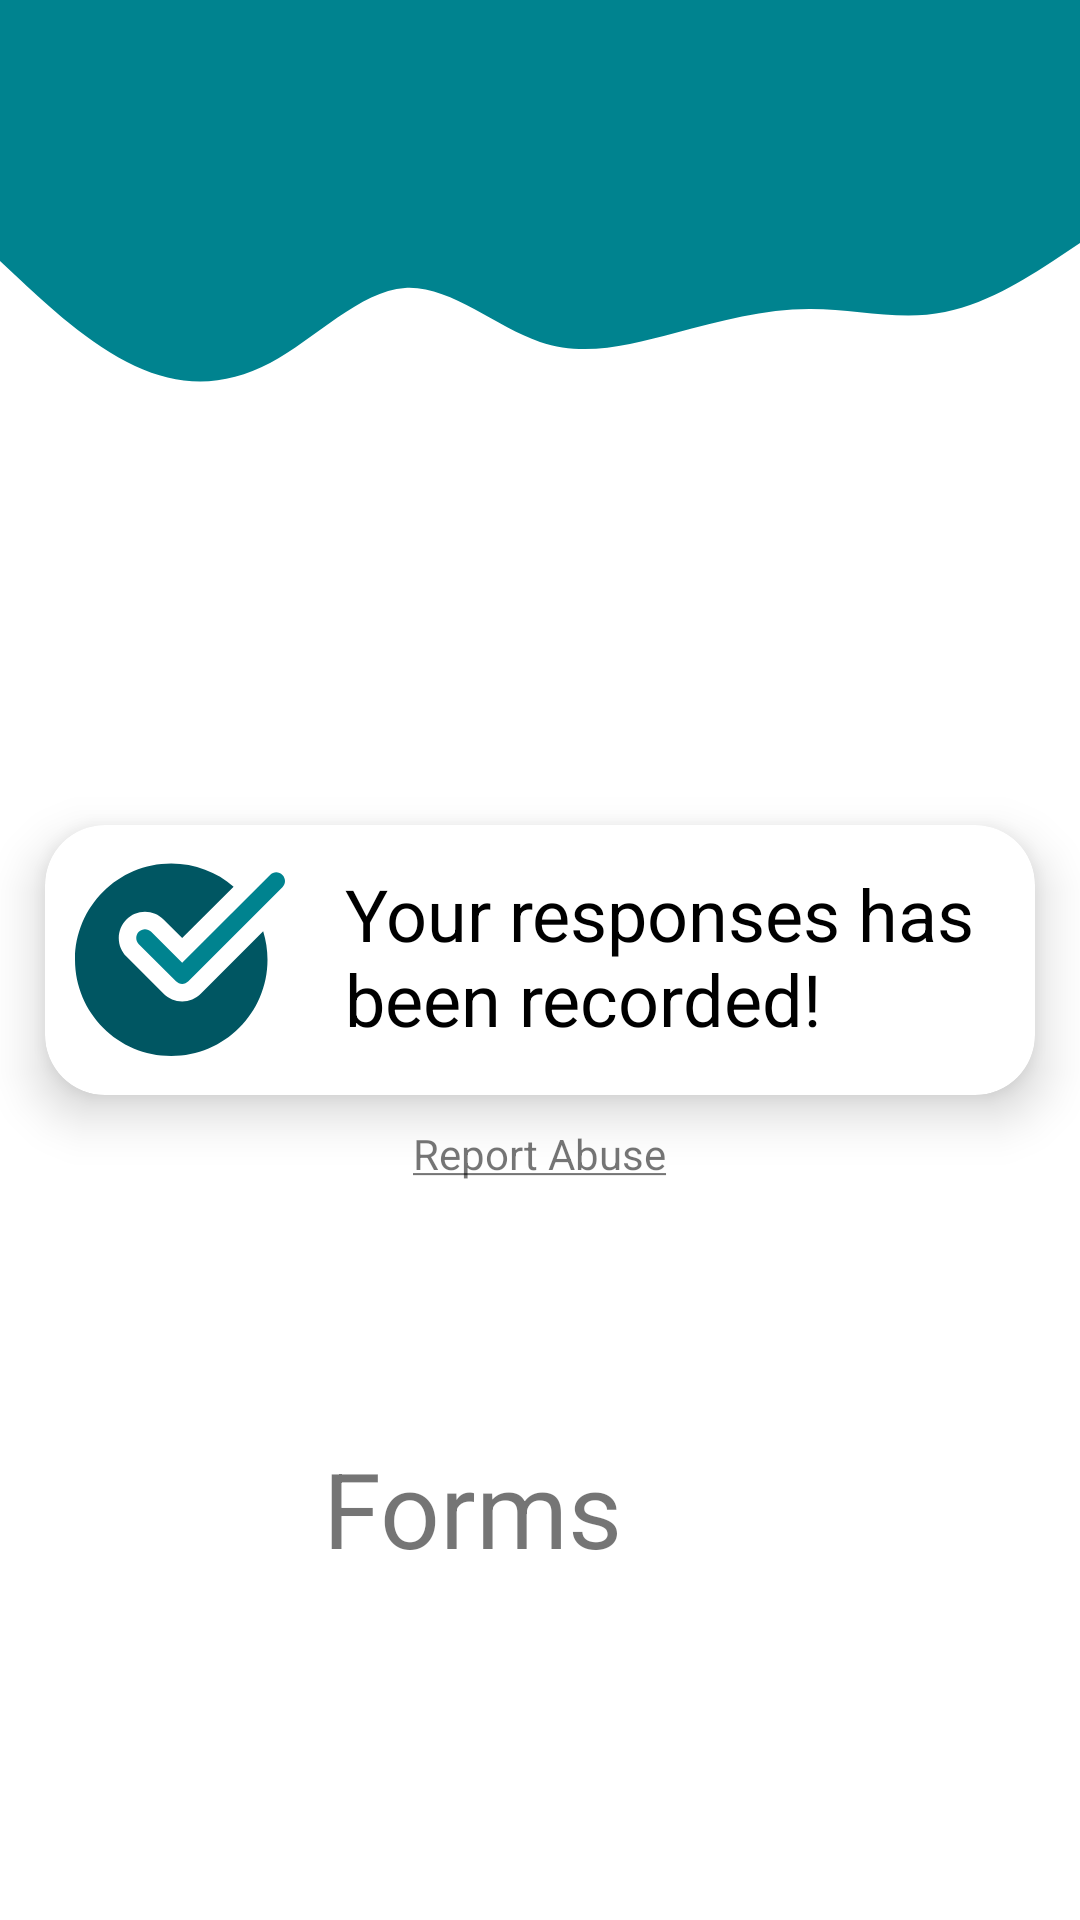

Screen size 1080w x 1920h. Icon name, then its box in pixels as box(x1, y1, x2, y2):
checkmark: box(75, 863, 285, 1056)
